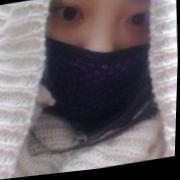WRONG: (32, 1, 165, 129)
